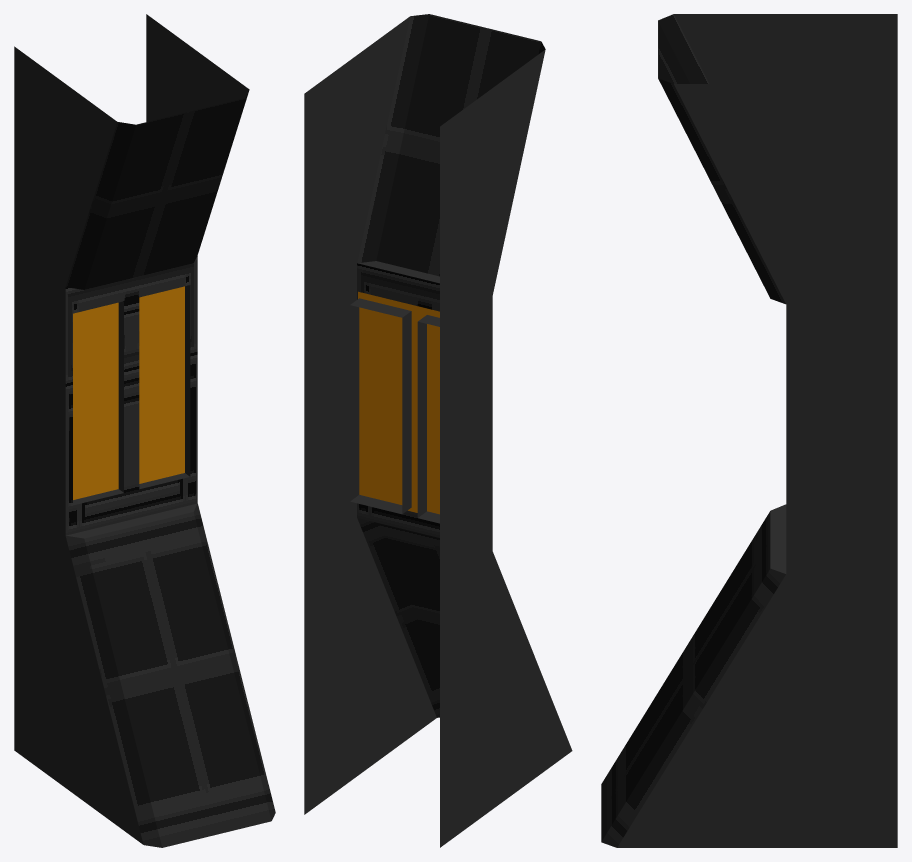
File: lightpillar01.gltf
3 renders of one model, left to right at view 1: azimuth 30°, elevation 25°; view 2: azimuth 150°, elevation 25°; view 3: azimuth 270°, elevation 25°, orthographic. The views are drawn at different scales.
Visible parts, largest first — view 1: pillar, lightpanel; view 2: pillar, lightpanel; view 3: pillar.
Boxes of the visible parts, left/top/right/bottom form: pillar: left=14, top=14, right=275, bottom=847; lightpanel: left=73, top=286, right=184, bottom=499; pillar: left=304, top=14, right=572, bottom=847; lightpanel: left=358, top=291, right=439, bottom=514; pillar: left=601, top=14, right=897, bottom=847.
Bounding box in the file's own units: 0.5 × 2.55 × 0.8952.
2 materials, 1 textured.
